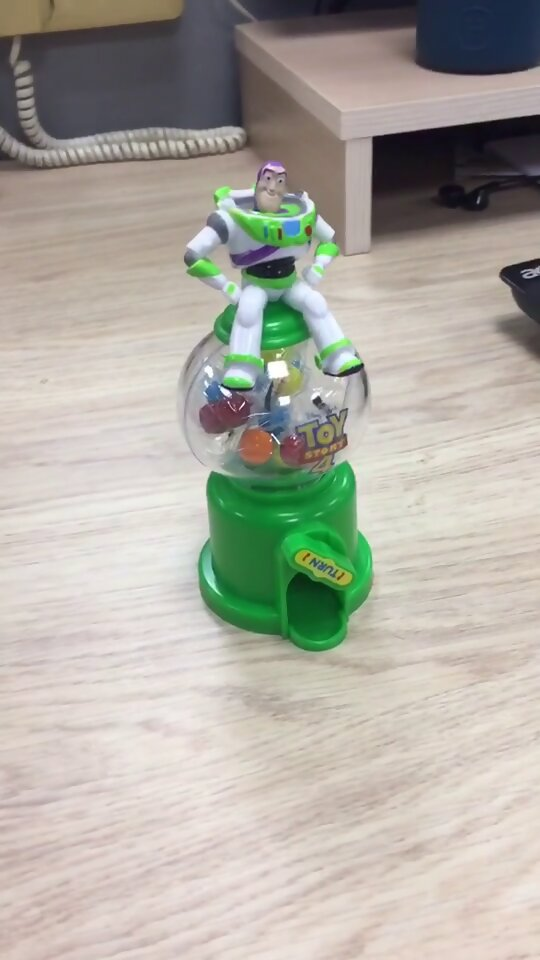buzz: (172, 151, 383, 656)
